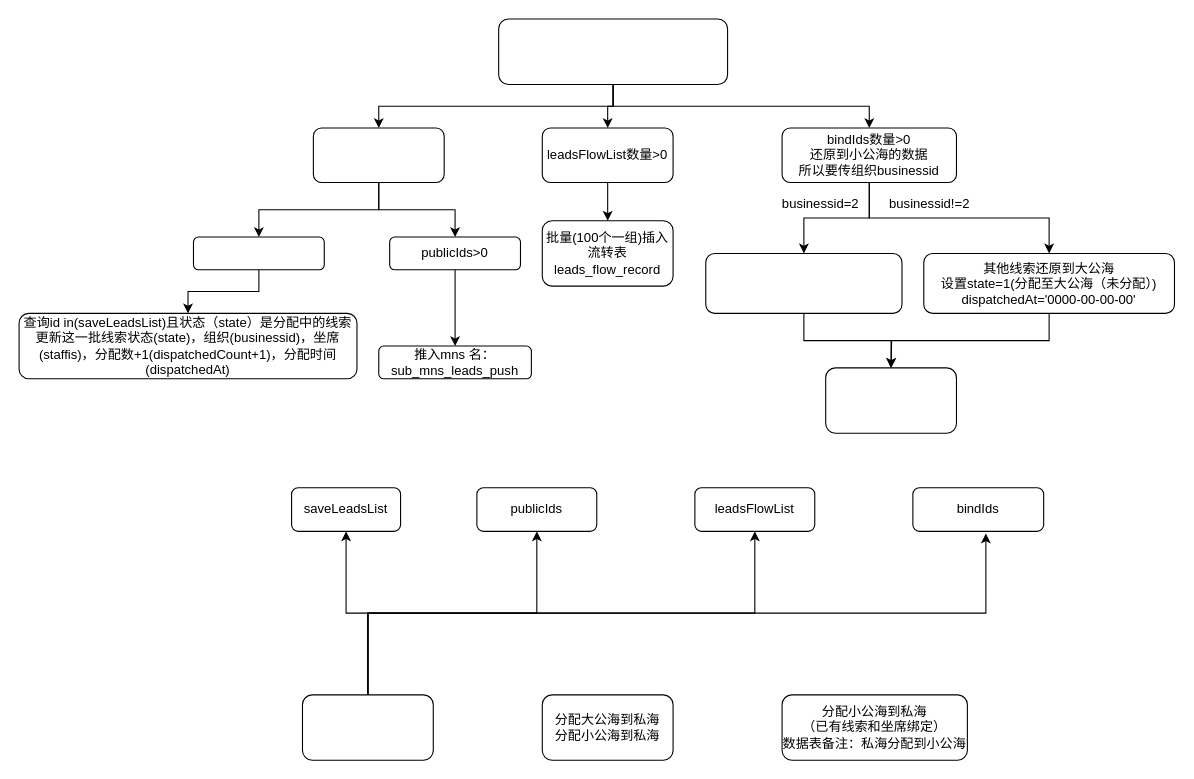
This 1194x779 diagram has some shape labels left out. Here are the shapes that lost their labels. From the top down, the centre of each, then its label:
At point (613, 51): "保存逻辑 处理结果： publicIds， saveLeadsList， leadsFlowList ,bindIds".
At point (378, 155): "saveLeadsList数量>0".
At point (258, 253): "执行分配".
At point (803, 282): "南海线索还原到小公海 businessid=2 设置state=2(分配至小公海) dispatchedAt='0000-00-00-00'".
At point (890, 400): "更新leads_public表".
At point (367, 727): "大公海分配小公海".
